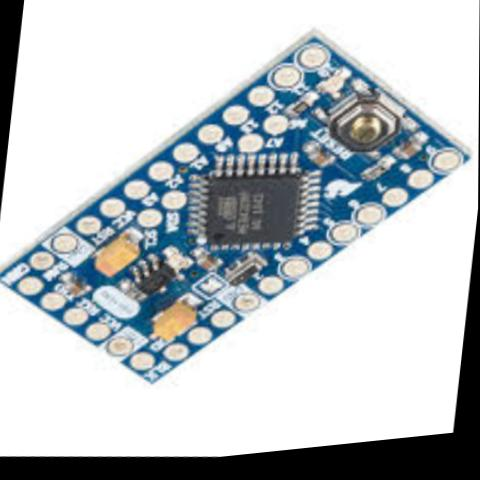Arduino-Pro-Mini: (0, 0, 480, 454)
